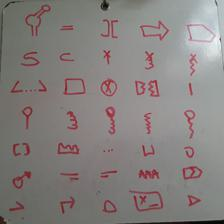aptamer: (25, 5, 51, 36)
assembly-scar: (60, 25, 74, 31)
blunt-restriction-site: (100, 19, 119, 38)
cds: (186, 23, 216, 42)
cds-arrow: (140, 21, 169, 40)
chromosomal-locus: (21, 52, 40, 66)
circular-plasmid: (59, 52, 75, 62)
composite: (10, 79, 48, 94)
engineered-region: (63, 78, 87, 95)
five-prime-overhang: (58, 171, 80, 181)
inert-dna-spacer: (100, 79, 118, 97)
intron: (135, 80, 160, 97)
location-dna: (22, 106, 33, 130)
location-dna-no-top: (188, 82, 194, 96)
location-protein: (105, 106, 117, 134)
location-protein-no-top: (65, 111, 78, 130)
location-rna: (184, 109, 197, 139)
location-rna-no-top: (143, 112, 153, 134)
ncrna: (57, 142, 80, 155)
no-glyph-assigned: (12, 142, 31, 156)
nuclease-site: (103, 50, 112, 65)
omitted-detail: (102, 147, 115, 154)
operator: (141, 144, 156, 157)
origin-of-replication: (183, 145, 196, 158)
origin-of-transfer: (12, 170, 32, 189)
polyA: (138, 169, 160, 180)
polypeptide-region: (182, 166, 203, 179)
primer-binding-site: (8, 201, 25, 212)
promoter: (60, 196, 75, 214)
protease-site: (145, 51, 155, 70)
ribonuclease-site: (188, 52, 198, 77)
ribosome-entry-site: (102, 199, 118, 213)
signature: (131, 190, 164, 211)
specific-recombination-site: (187, 194, 202, 207)
three-prime-overhang: (99, 170, 119, 179)
